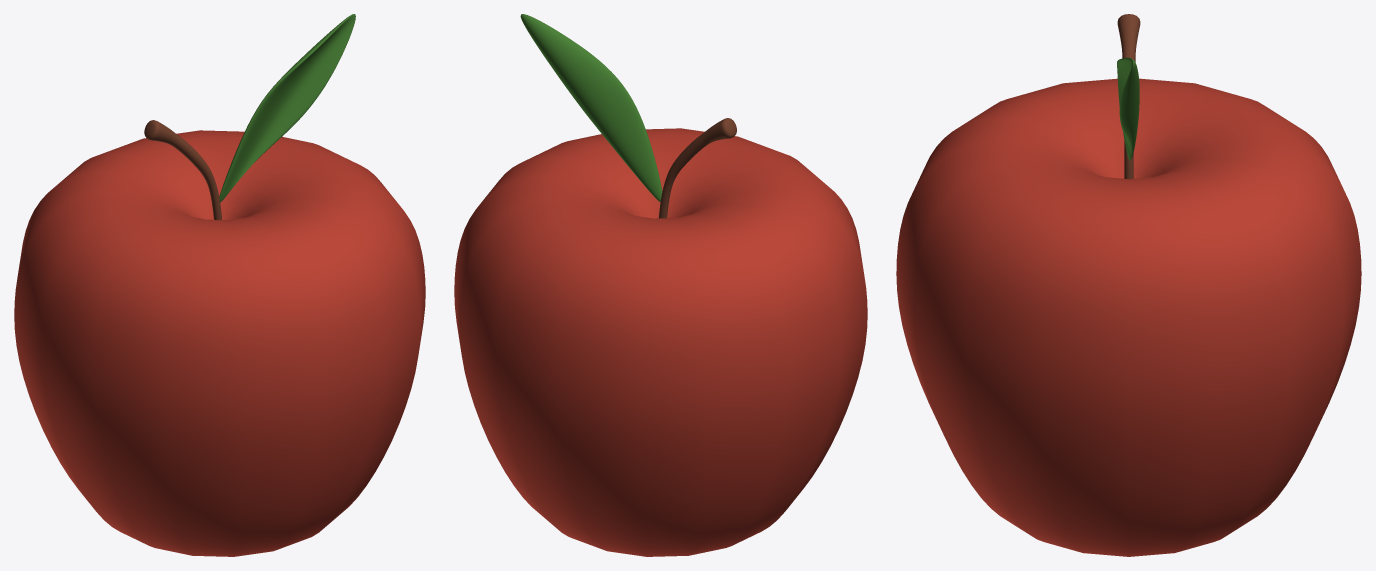
Rendered from apple.fbx.
3 views of the same model, side by side, from view 1: azimuth 30°, elevation 25°; view 2: azimuth 150°, elevation 25°; view 3: azimuth 270°, elevation 25° (orthographic). The views are drawn at different scales.
Visible parts, largest first — view 1: Vert.010, Plane.004, Vert.011; view 2: Vert.010, Plane.004, Vert.011; view 3: Vert.010, Plane.004, Vert.011.
Part boxes in pixels (x1,y1,x2,y2): Vert.010: (14,130,425,556); Plane.004: (219,14,355,202); Vert.011: (144,120,222,219); Vert.010: (454,128,867,556); Plane.004: (520,14,662,201); Vert.011: (658,118,736,218); Vert.010: (896,78,1361,556); Plane.004: (1117,57,1139,160); Vert.011: (1117,14,1140,179).
Size of the model in its own units: 69.39 by 87.08 by 69.39.
